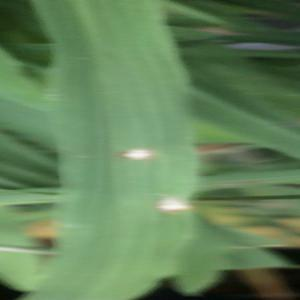1 RiceBlast: (146, 191, 206, 233), (113, 129, 162, 171)
